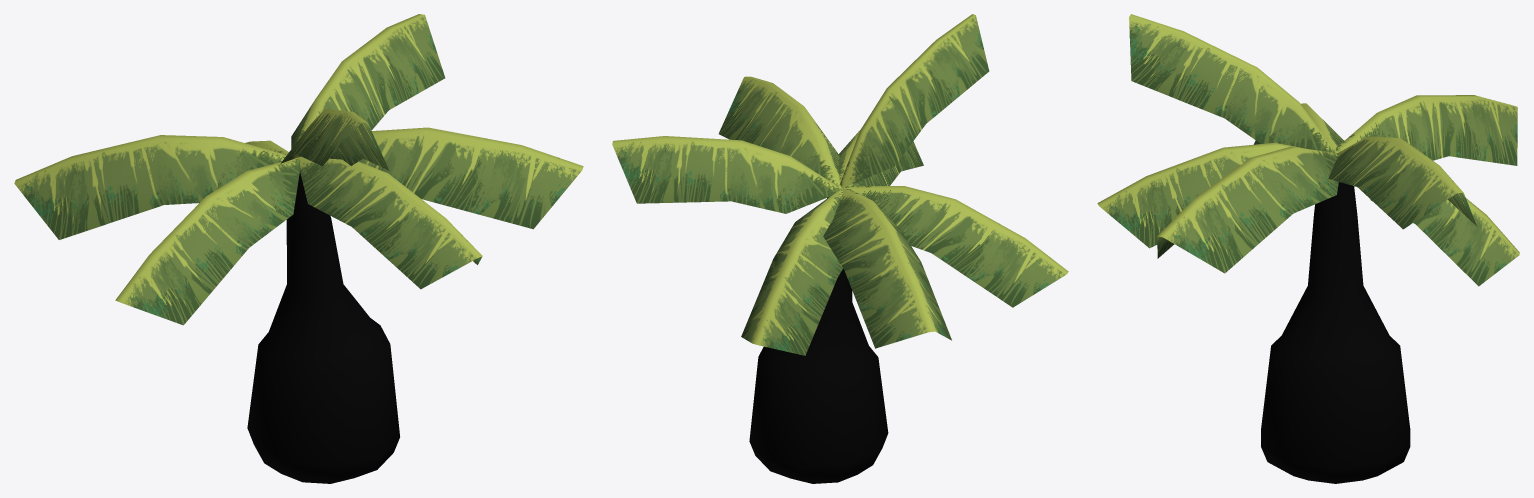
Rendered from V_PalmTree02.FBX.
3 views of the same model, side by side, from view 1: azimuth 30°, elevation 25°; view 2: azimuth 150°, elevation 25°; view 3: azimuth 270°, elevation 25° (orthographic). The views are drawn at different scales.
Visible parts, largest first — view 1: little_palmtree001; view 2: little_palmtree001; view 3: little_palmtree001.
Part boxes in pixels (x1,y1,x2,y2): little_palmtree001: (14, 14, 583, 483); little_palmtree001: (612, 14, 1068, 483); little_palmtree001: (1097, 14, 1519, 483).
Bounding box in the file's own units: 226 × 228 × 207.
